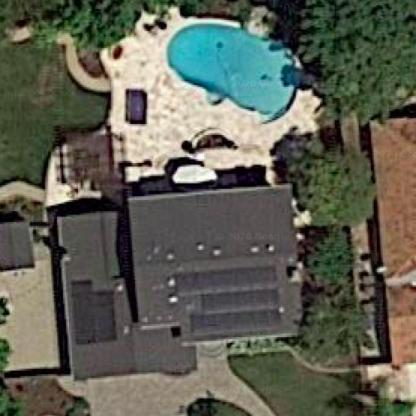solar_panel: (161, 261, 287, 340), (68, 272, 127, 353)
swimming_pool: (157, 11, 311, 130)
